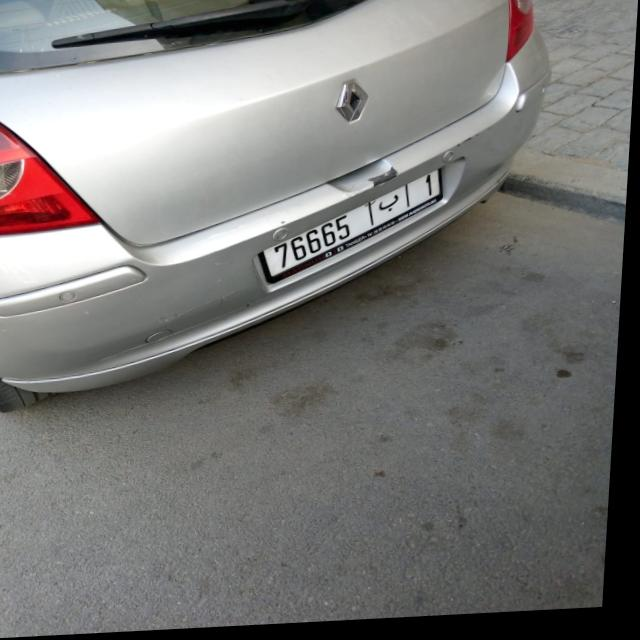License-Plate: (267, 175, 442, 280)
